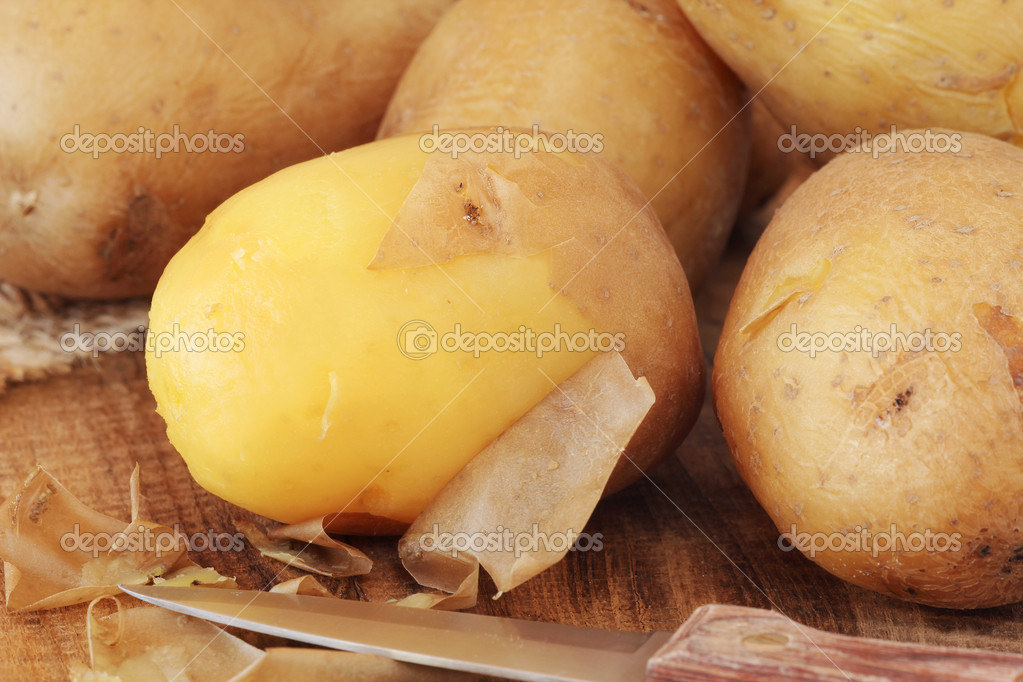boiled potatoes: (122, 123, 711, 519), (718, 119, 1023, 615)
